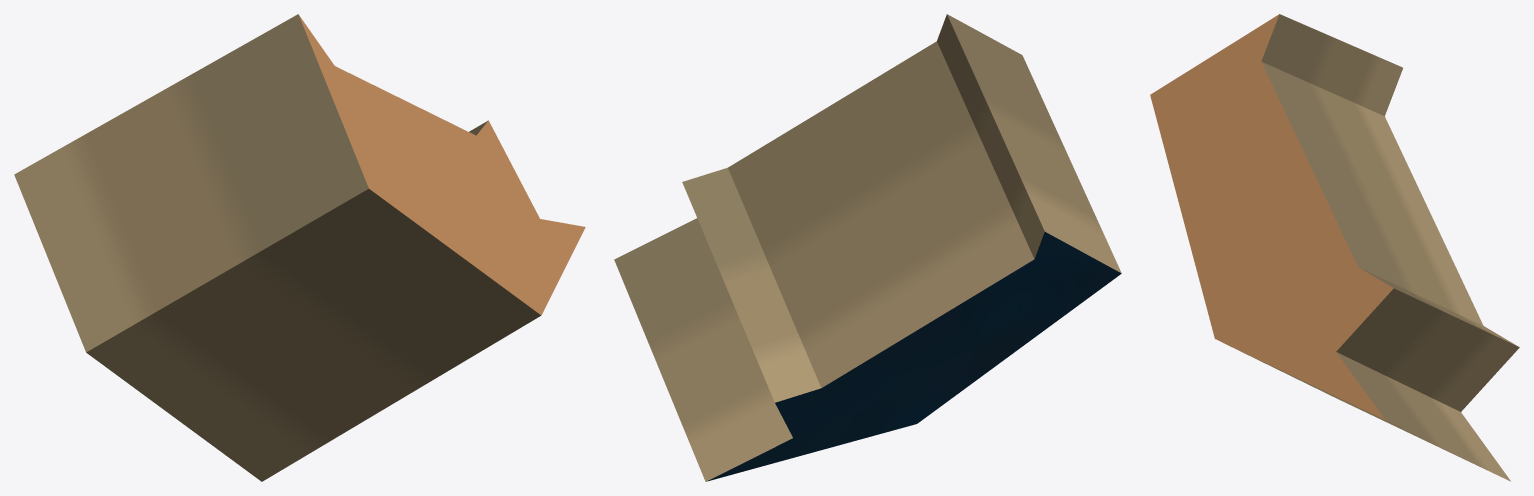
File: 060e_United_Arab_Emirates.glb
3 renders of one model, left to right at view 1: azimuth 30°, elevation 25°; view 2: azimuth 150°, elevation 25°; view 3: azimuth 270°, elevation 25°, orthographic. The views are drawn at different scales.
Parts seen in each view (by area): view 1: part_0; view 2: part_0; view 3: part_0.
Part boxes in pixels (x1=…): part_0: x1=14, y1=14, x2=585, y2=481; part_0: x1=614, y1=14, x2=1121, y2=481; part_0: x1=1150, y1=14, x2=1519, y2=481.
Size of the model in its own units: 0.3889 by 0.3407 by 0.2798.
Materials: 1 (1 with a texture image).
